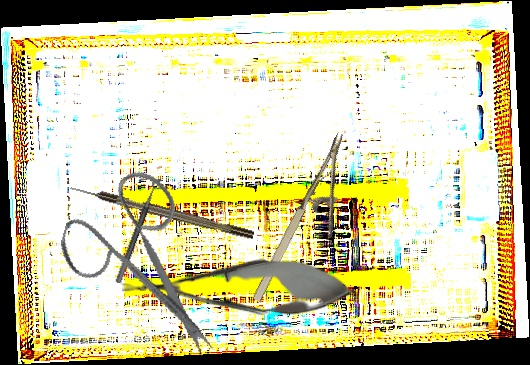Fixation Ring: (114, 176, 170, 288)
Hook Surgical: (69, 182, 255, 241)
Iris Scissors: (40, 154, 256, 362)
Micro Scissor: (122, 258, 354, 318)
Needle Holder: (247, 131, 378, 318)
